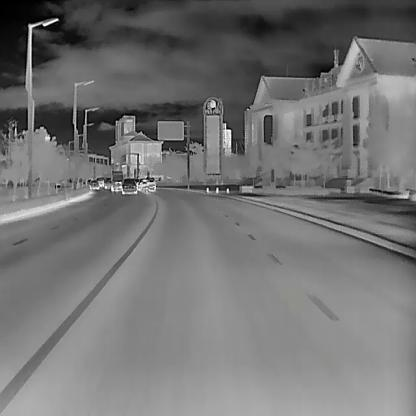car: (121, 176, 136, 194), (145, 176, 155, 192), (110, 179, 121, 192), (95, 176, 106, 188), (139, 177, 148, 190), (89, 180, 99, 190), (104, 177, 111, 189)
